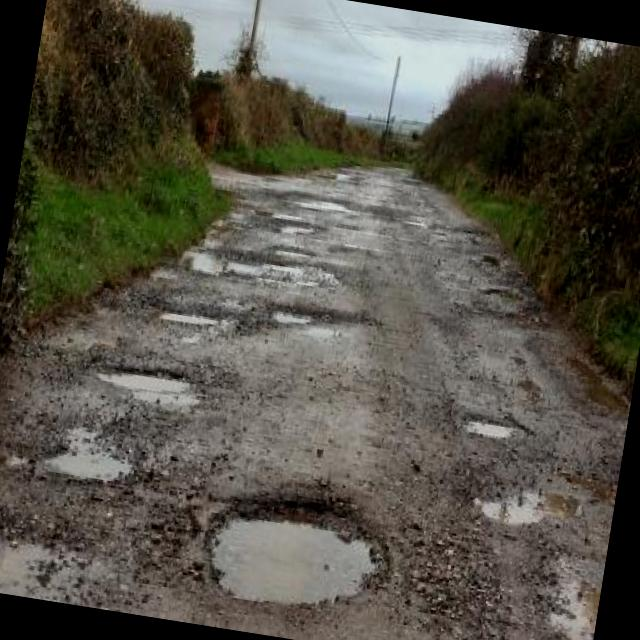Lubang: (213, 520, 375, 604), (45, 428, 131, 481), (475, 488, 580, 526), (271, 301, 377, 338), (97, 375, 190, 394), (464, 421, 524, 439), (272, 215, 314, 234), (185, 254, 222, 274)
